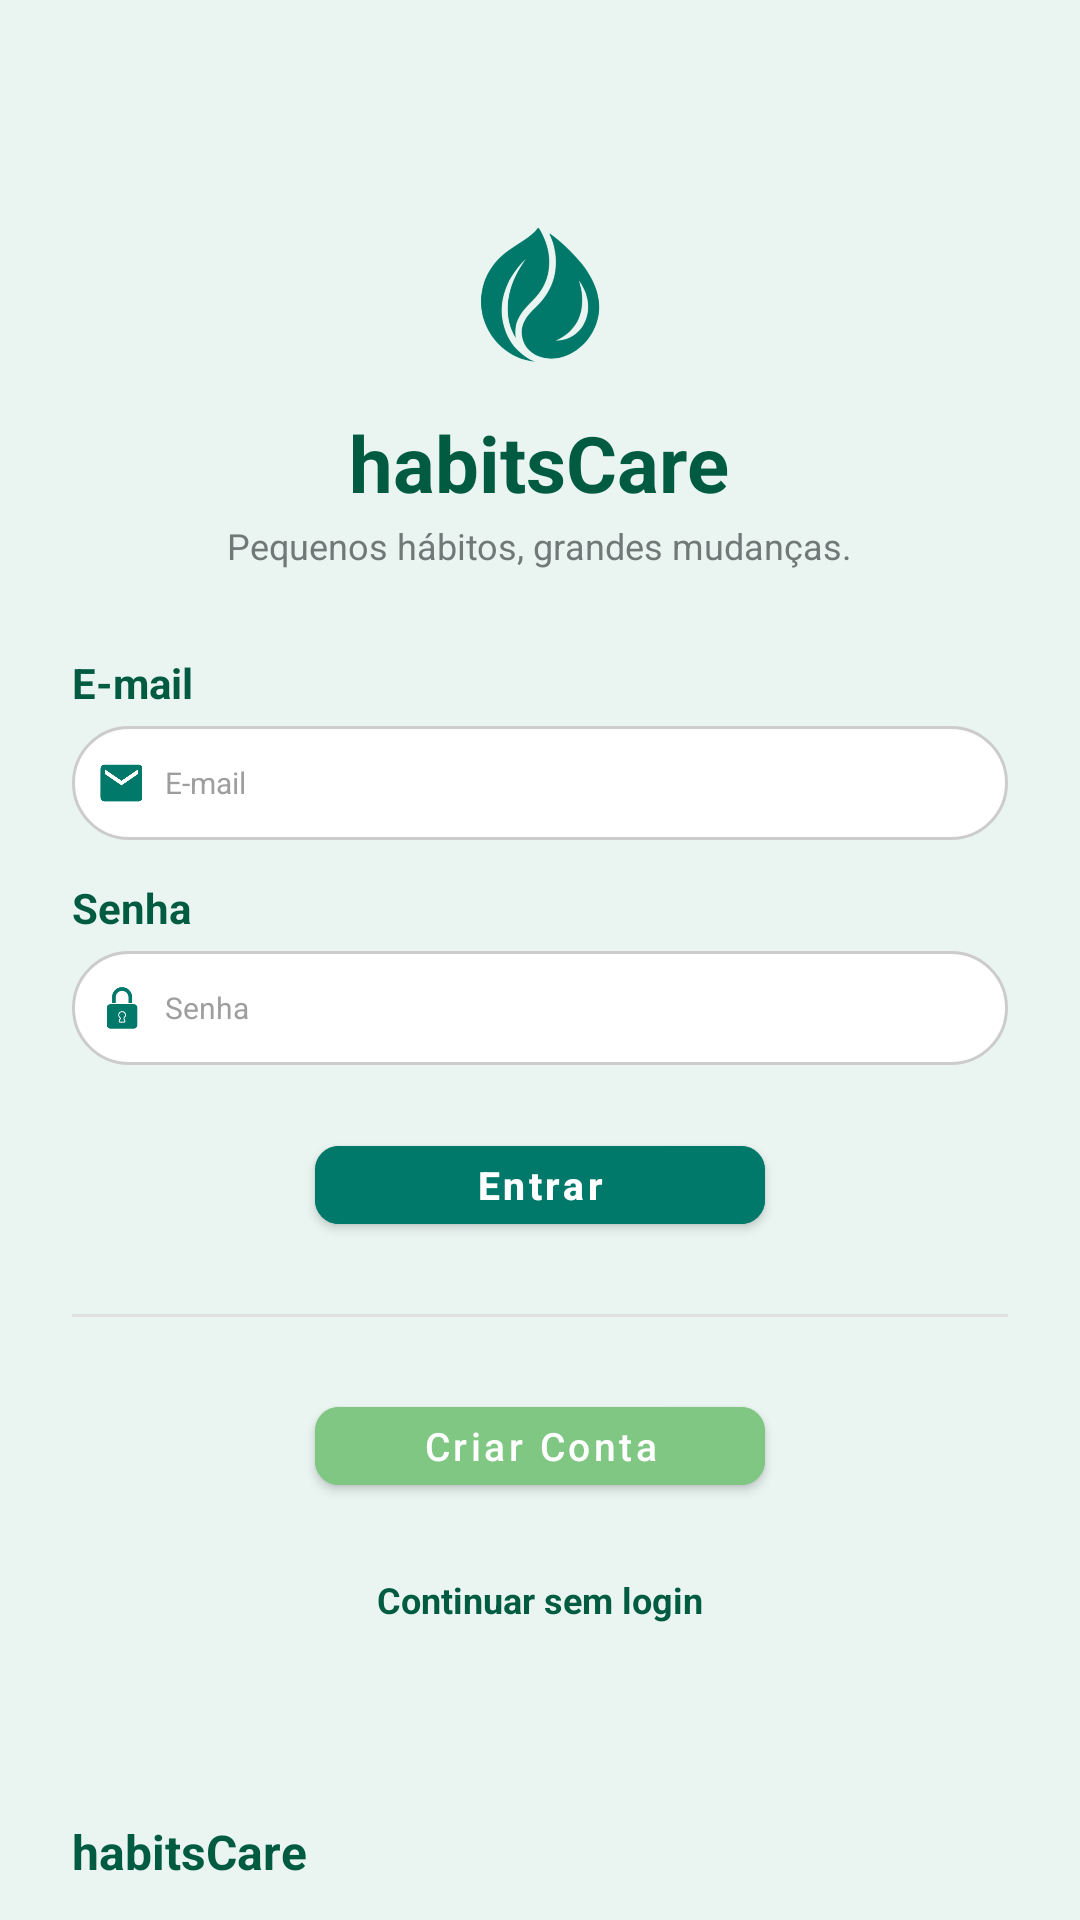

Icon click points for this 1080px×1920px phone screenshot, format [x,y]:
leaf: [540,295]
lock: [122,1008]
